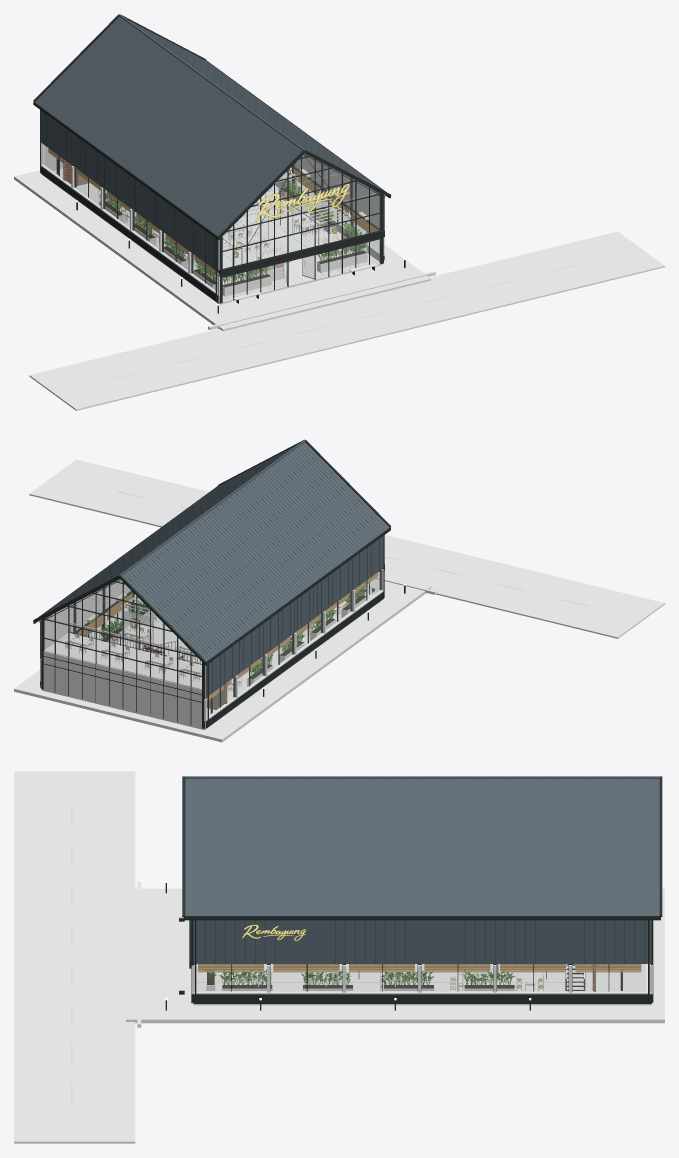
The model's file is rembayung.glb.
3 views of the same model, one above another, from view 1: azimuth 30°, elevation 25°; view 2: azimuth 150°, elevation 25°; view 3: azimuth 270°, elevation 25° (orthographic). The views are drawn at different scales.
Parts seen in each view (by area): view 1: Paved forecourt, low curb, street and entrance benches, Two pitched metal roof planes with ridge cap & standing seam, Facade and side window panes, Dark external side cladding and rainwater downpipes, Floor slab, concrete walkways & individual terracotta tiles, Black facade mullions, transoms & entrance doors, Side plaster walls, sills and rear service wall, Timber planter boxes & ceramic tree pot, Tropical broadleaf planting, Steel I-section portal frames, girts & bracing, Bamboo roller blinds & wall mounted air conditioning, Timber pergolas, slatted dining partitions & pendant baskets (+1 smaller); view 2: Two pitched metal roof planes with ridge cap & standing seam, Paved forecourt, low curb, street and entrance benches, Facade and side window panes, Side plaster walls, sills and rear service wall, Dark external side cladding and rainwater downpipes, Rear mezzanine, staircase & balustrade, Black facade mullions, transoms & entrance doors, Floor slab, concrete walkways & individual terracotta tiles, Steel I-section portal frames, girts & bracing, Bamboo roller blinds & wall mounted air conditioning, Timber planter boxes & ceramic tree pot, Tropical broadleaf planting (+1 smaller); view 3: Two pitched metal roof planes with ridge cap & standing seam, Paved forecourt, low curb, street and entrance benches, Dark external side cladding and rainwater downpipes, Facade and side window panes, Floor slab, concrete walkways & individual terracotta tiles, Bamboo roller blinds & wall mounted air conditioning, Side plaster walls, sills and rear service wall, Tropical broadleaf planting, Timber planter boxes & ceramic tree pot, Black facade mullions, transoms & entrance doors.
Boxes of the visible parts, x1,y1,x2,y2 form: Paved forecourt, low curb, street and entrance benches: (14, 170, 664, 410); Two pitched metal roof planes with ridge cap & standing seam: (33, 14, 391, 239); Facade and side window panes: (44, 146, 380, 300); Dark external side cladding and rainwater downpipes: (40, 110, 385, 303); Floor slab, concrete walkways & individual terracotta tiles: (42, 168, 382, 304); Black facade mullions, transoms & entrance doors: (41, 143, 384, 303); Side plaster walls, sills and rear service wall: (41, 143, 384, 302); Timber planter boxes & ceramic tree pot: (99, 185, 367, 296); Tropical broadleaf planting: (105, 177, 366, 285); Steel I-section portal frames, girts & bracing: (74, 152, 382, 303); Bamboo roller blinds & wall mounted air conditioning: (48, 148, 378, 275); Timber pergolas, slatted dining partitions & pendant baskets: (121, 171, 351, 279); Two pitched metal roof planes with ridge cap & standing seam: (33, 439, 391, 665); Paved forecourt, low curb, street and entrance benches: (14, 459, 664, 742); Facade and side window panes: (44, 570, 381, 716); Side plaster walls, sills and rear service wall: (40, 569, 383, 728); Dark external side cladding and rainwater downpipes: (39, 535, 384, 728); Rear mezzanine, staircase & balustrade: (44, 622, 212, 713); Black facade mullions, transoms & entrance doors: (43, 564, 384, 728); Floor slab, concrete walkways & individual terracotta tiles: (42, 595, 382, 730); Steel I-section portal frames, girts & bracing: (41, 569, 381, 728); Bamboo roller blinds & wall mounted air conditioning: (58, 572, 378, 701); Timber planter boxes & ceramic tree pot: (101, 590, 367, 686); Tropical broadleaf planting: (100, 585, 367, 676); Two pitched metal roof planes with ridge cap & standing seam: (182, 776, 662, 920); Paved forecourt, low curb, street and entrance benches: (14, 771, 664, 1143); Dark external side cladding and rainwater downpipes: (193, 920, 651, 1003); Facade and side window panes: (196, 964, 645, 991); Floor slab, concrete walkways & individual terracotta tiles: (193, 964, 651, 1005); Bamboo roller blinds & wall mounted air conditioning: (198, 964, 641, 972); Side plaster walls, sills and rear service wall: (191, 964, 652, 994); Tropical broadleaf planting: (205, 970, 514, 986); Timber planter boxes & ceramic tree pot: (206, 972, 515, 990); Black facade mullions, transoms & entrance doors: (189, 920, 652, 1003).
Bounding box in the file's own units: 65 × 14.87 × 48.3.
Materials: 44 (1 with a texture image).
